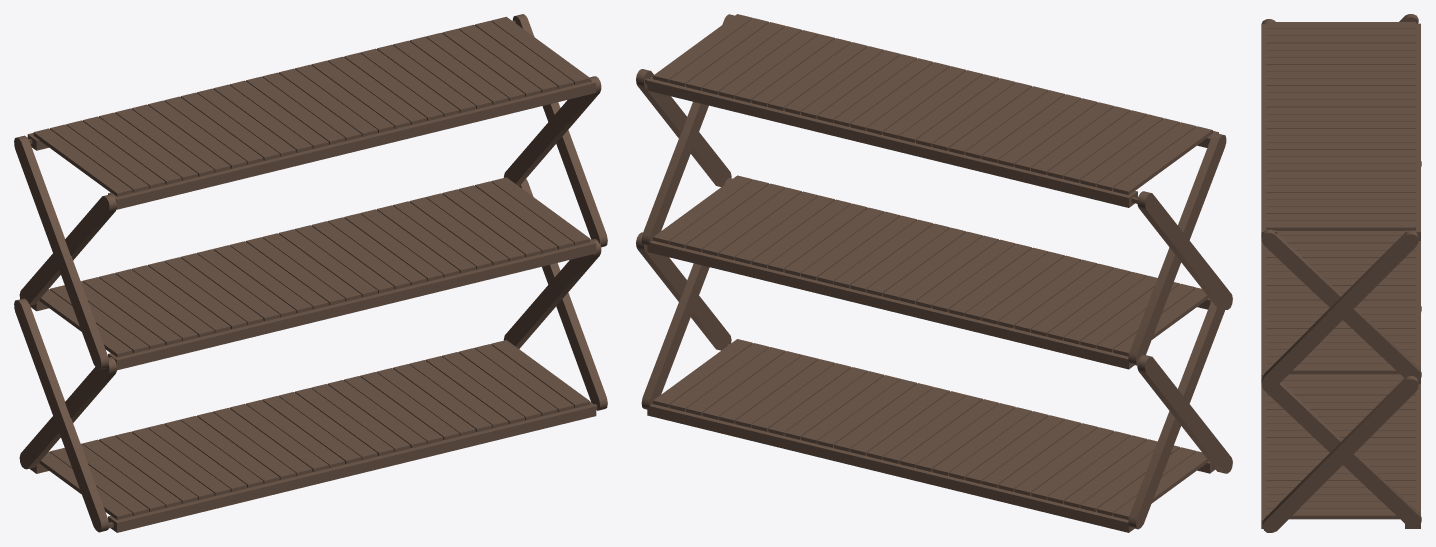
File: bookshelf_W.fbx
3 renders of one model, left to right at view 1: azimuth 30°, elevation 25°; view 2: azimuth 150°, elevation 25°; view 3: azimuth 270°, elevation 25°, orthographic. The views are drawn at different scales.
Visible parts, largest first — view 1: pasted__polySurface83.001, polySurface88, polySurface111, polySurface92, polySurface114, polySurface112, polySurface113, polySurface89, polySurface91; view 2: pasted__polySurface83.001, polySurface112, polySurface89, polySurface111, polySurface88, polySurface92, polySurface114, polySurface113, polySurface91; view 3: pasted__polySurface83.001, polySurface113, polySurface91, polySurface114, polySurface92.
Part boxes in pixels (x1,y1,x2,y2): pasted__polySurface83.001: (27, 16, 596, 532); polySurface88: (14, 298, 108, 532); polySurface111: (14, 135, 109, 369); polySurface92: (503, 239, 601, 348); polySurface114: (504, 76, 601, 185); polySurface112: (19, 194, 116, 305); polySurface113: (512, 14, 607, 247); polySurface89: (19, 357, 116, 469); polySurface91: (519, 179, 607, 410); pasted__polySurface83.001: (647, 14, 1218, 532); polySurface112: (1128, 133, 1226, 365); polySurface89: (1128, 301, 1224, 529); polySurface111: (1137, 191, 1232, 309); polySurface88: (1137, 355, 1232, 473); polySurface92: (641, 178, 732, 409); polySurface114: (641, 14, 734, 245); polySurface113: (636, 69, 731, 186); polySurface91: (636, 232, 731, 350); pasted__polySurface83.001: (1261, 22, 1420, 528); polySurface113: (1262, 231, 1418, 387); polySurface91: (1262, 376, 1418, 532); polySurface114: (1261, 229, 1421, 381); polySurface92: (1261, 379, 1421, 527).
Size of the model in its own units: 88.41 by 56.18 by 27.2.
